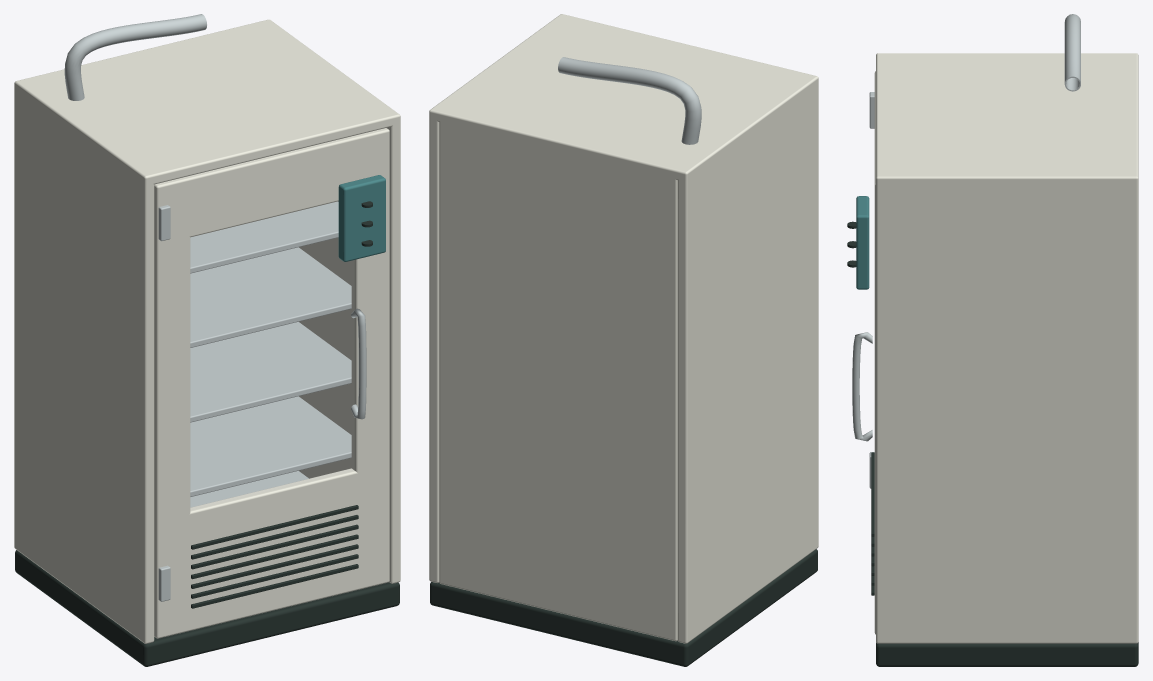
The model's file is mushroom-farm-and-grow-rooms-pasteurization-cabinet-dfc6d1f0__30813.glb.
The picture shows the model from 3 angles, left to right: view 1: azimuth 30°, elevation 25°; view 2: azimuth 150°, elevation 25°; view 3: azimuth 270°, elevation 25°; orthographic projection.
Parts seen in each view (by area): view 1: pasteurization-cabinet; view 2: pasteurization-cabinet; view 3: pasteurization-cabinet.
Part boxes in pixels (x1,y1,x2,y2): pasteurization-cabinet: (14,14,400,666); pasteurization-cabinet: (429,14,818,666); pasteurization-cabinet: (847,14,1138,666).
Size of the model in its own units: 0.9 by 1.85 by 0.8871.
